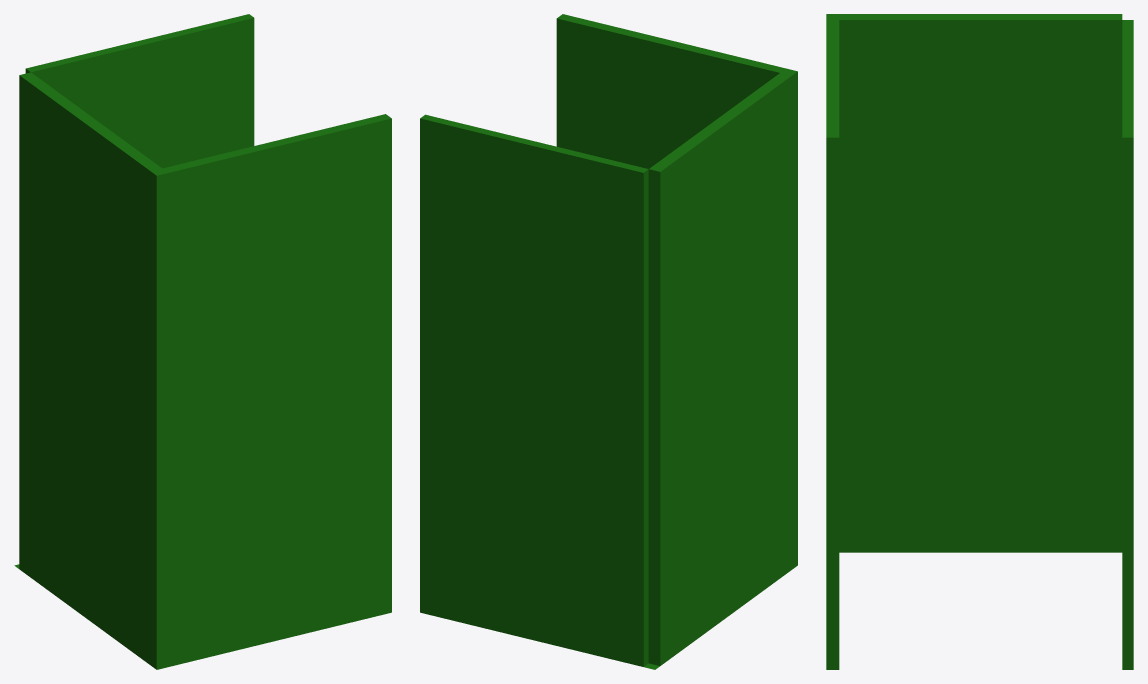
Rendered from Boxe.dae.
3 renders of one model, left to right at view 1: azimuth 30°, elevation 25°; view 2: azimuth 150°, elevation 25°; view 3: azimuth 270°, elevation 25°, orthographic. The views are drawn at different scales.
Visible parts, largest first — view 1: Plane; view 2: Plane; view 3: Plane.
Part boxes in pixels (x1,y1,x2,y2): Plane: [14, 14, 391, 669]; Plane: [420, 14, 797, 669]; Plane: [826, 14, 1133, 669].
Size of the model in its own units: 2 by 2.1 by 4.02.
